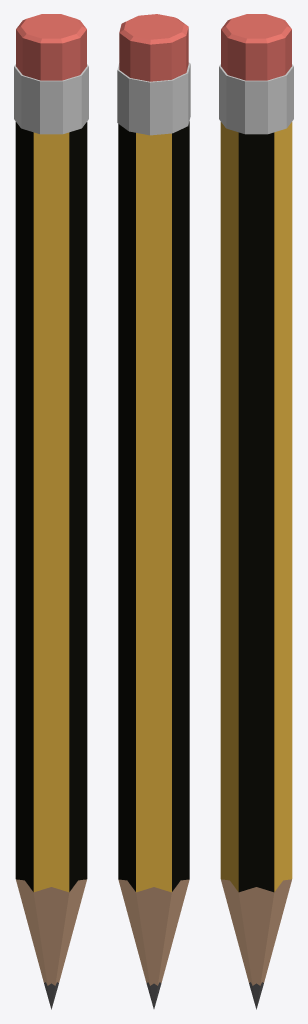
Rendered from PencilEraser.fbx.
3 renders of one model, left to right at view 1: azimuth 90°, elevation 25°; view 2: azimuth 210°, elevation 25°; view 3: azimuth 270°, elevation 25°, orthographic.
Visible parts, largest first — view 1: ZomboidPencilEraser; view 2: ZomboidPencilEraser; view 3: ZomboidPencilEraser.
Part boxes in pixels (<box>): ZomboidPencilEraser: <box>14,14,88,1009</box>; ZomboidPencilEraser: <box>117,14,190,1008</box>; ZomboidPencilEraser: <box>219,14,293,1009</box>.
Size of the model in its own units: 0.0103 by 0.1566 by 0.0108.
